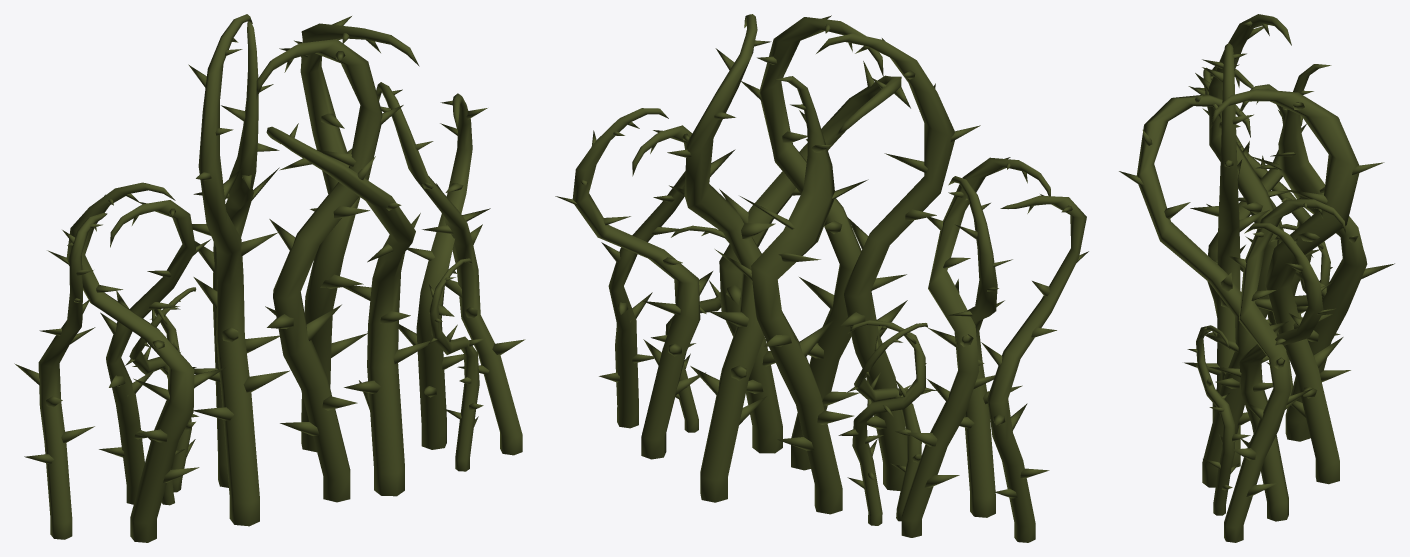
File: model-spikesWarm.fbx
The picture shows the model from 3 angles, left to right: view 1: azimuth 30°, elevation 25°; view 2: azimuth 150°, elevation 25°; view 3: azimuth 270°, elevation 25°; orthographic projection. The views are drawn at different scales.
Visible parts, largest first — view 1: spikesWarm; view 2: spikesWarm; view 3: spikesWarm.
Part boxes in pixels (left/top/right/bottom): spikesWarm: left=14, top=14, right=525, bottom=542; spikesWarm: left=555, top=14, right=1088, bottom=542; spikesWarm: left=1119, top=14, right=1394, bottom=542.
Size of the model in its own units: 382 by 366 by 222.
